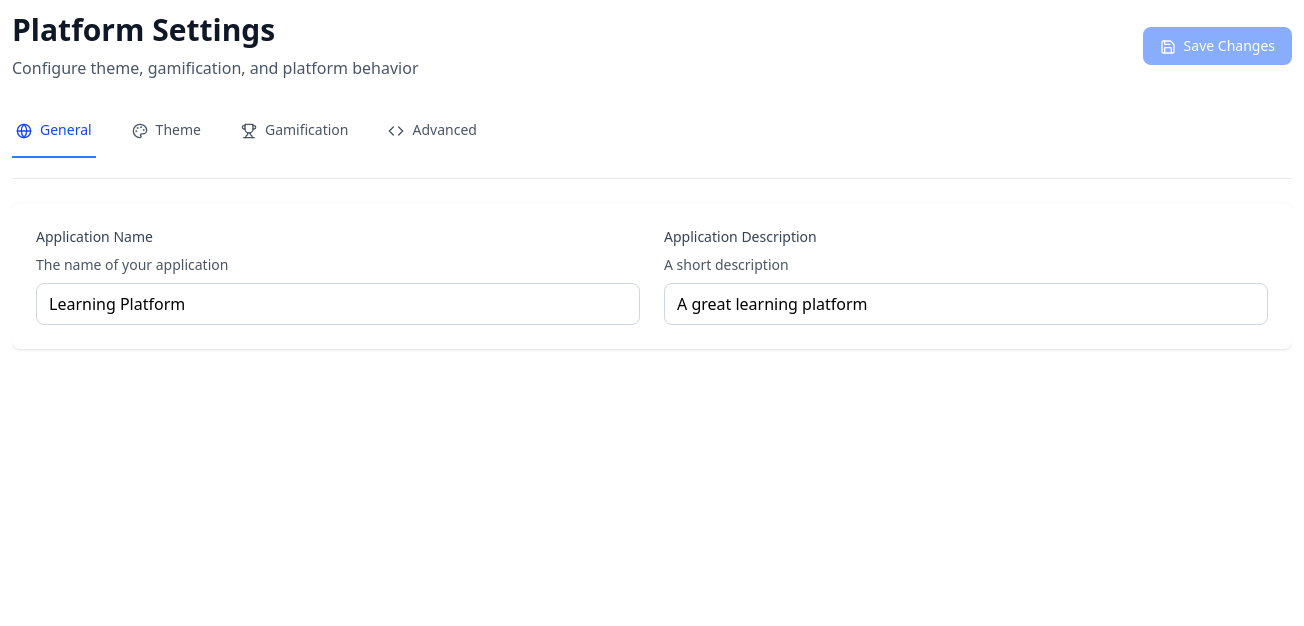
Test: AdminSettingsPanel › Advanced Tab › toggles advanced settings visibility
# Navigate to advanced tab
Step 1. Click the tab "Advanced" → (433, 131), box [384,104,481,158]
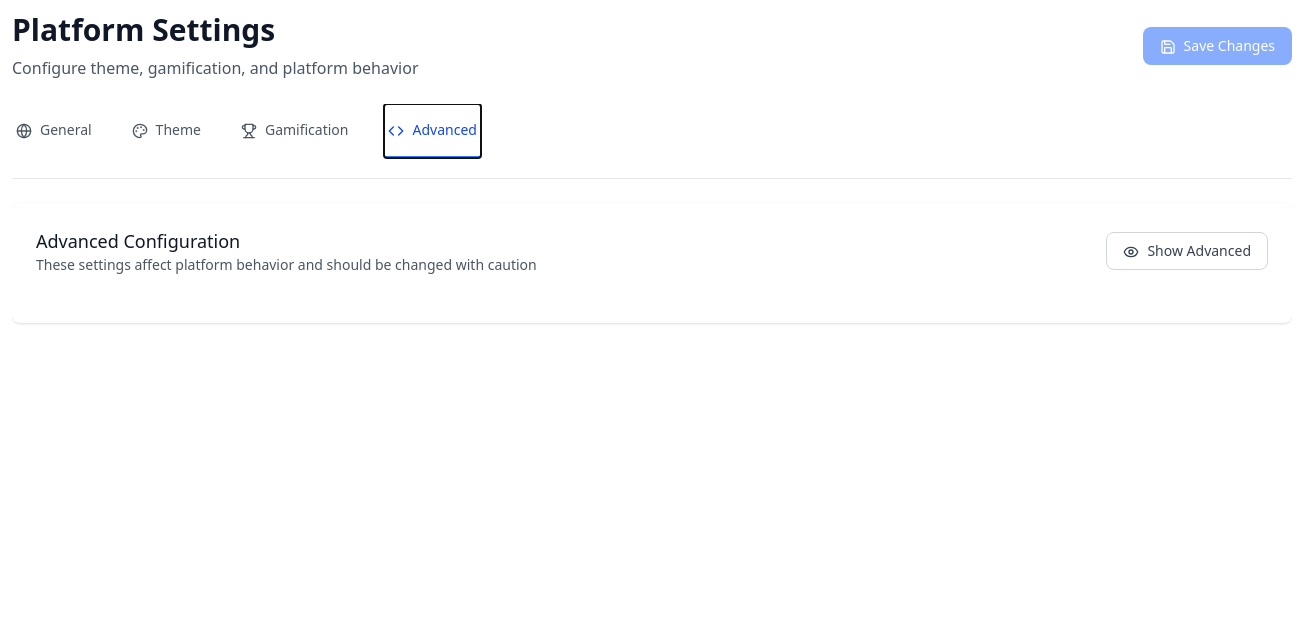
# Click show advanced
Step 2. Click the button "Show Advanced" → (1187, 251), box [1106,232,1268,270]
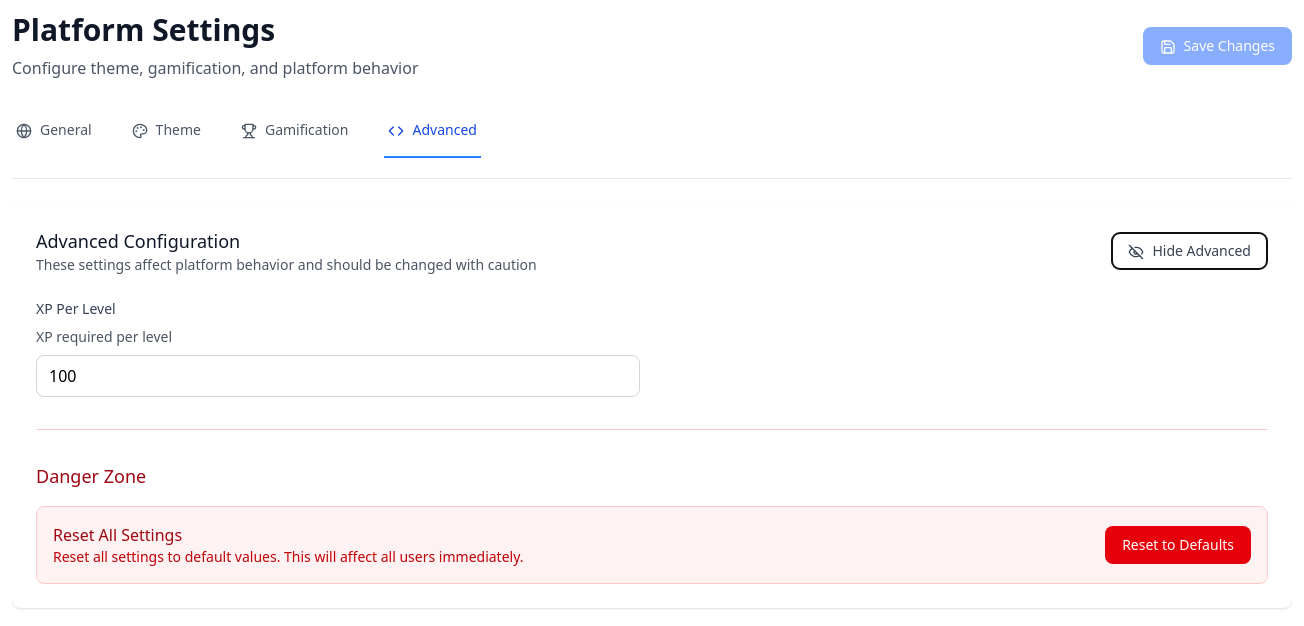
Check: the button "Hide Advanced" is shown, box [1112,232,1268,270]
Check: the heading "Danger Zone" is shown, box [36,464,146,488]
Check: the text "Reset All Settings" is shown, box [53,524,182,546]
